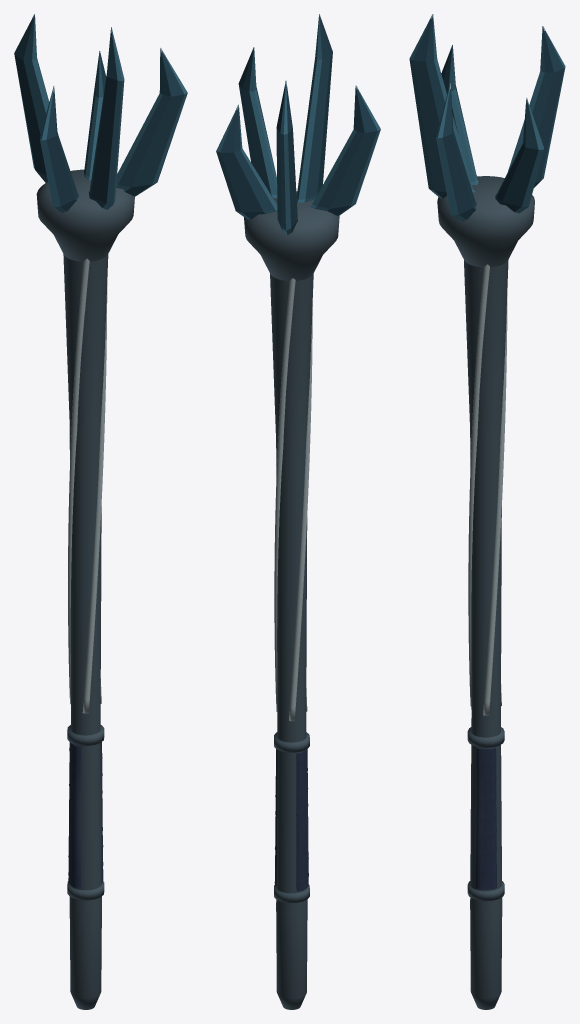
Rendered from wintercrown.glb.
3 views of the same model, side by side, from view 1: azimuth 30°, elevation 25°; view 2: azimuth 150°, elevation 25°; view 3: azimuth 270°, elevation 25° (orthographic). The views are drawn at different scales.
Parts seen in each view (by area): view 1: wintercrown_Baked.001 export; view 2: wintercrown_Baked.001 export; view 3: wintercrown_Baked.001 export.
Part boxes in pixels (left/top/right/bottom): wintercrown_Baked.001 export: left=14, top=14, right=187, bottom=1009; wintercrown_Baked.001 export: left=216, top=14, right=380, bottom=1009; wintercrown_Baked.001 export: left=409, top=14, right=565, bottom=1009.
Size of the model in its own units: 0.2385 by 1.57 by 0.2235.
Materials: 1 (1 with a texture image).
